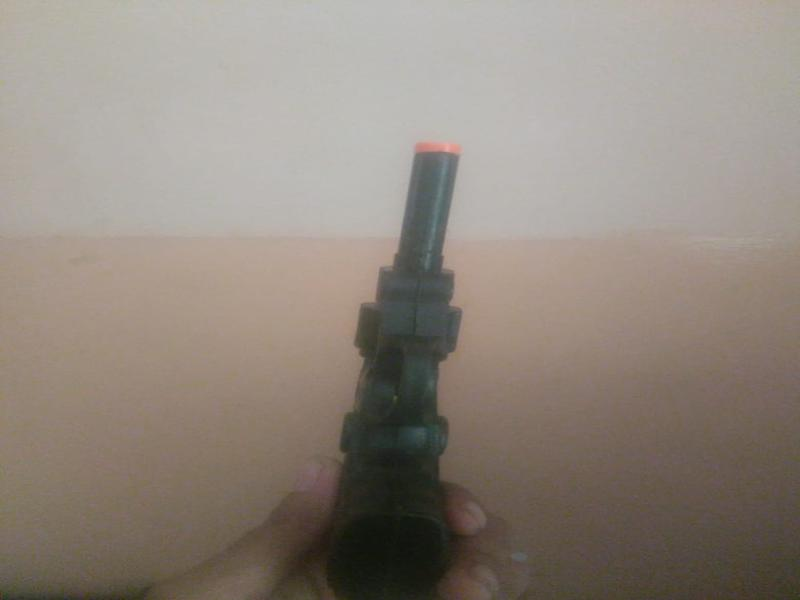gun: (310, 115, 540, 600)
